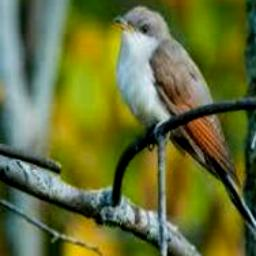Cuckoo: (114, 6, 256, 256)
